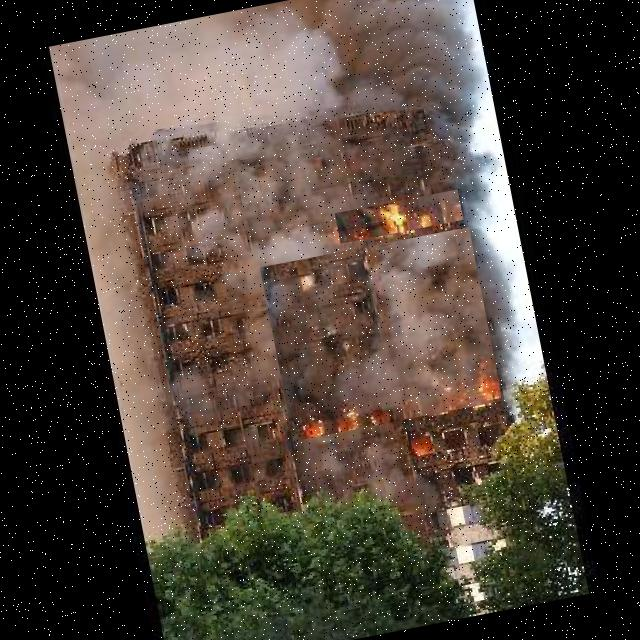fire: (260, 227, 503, 441), (334, 190, 464, 243)
